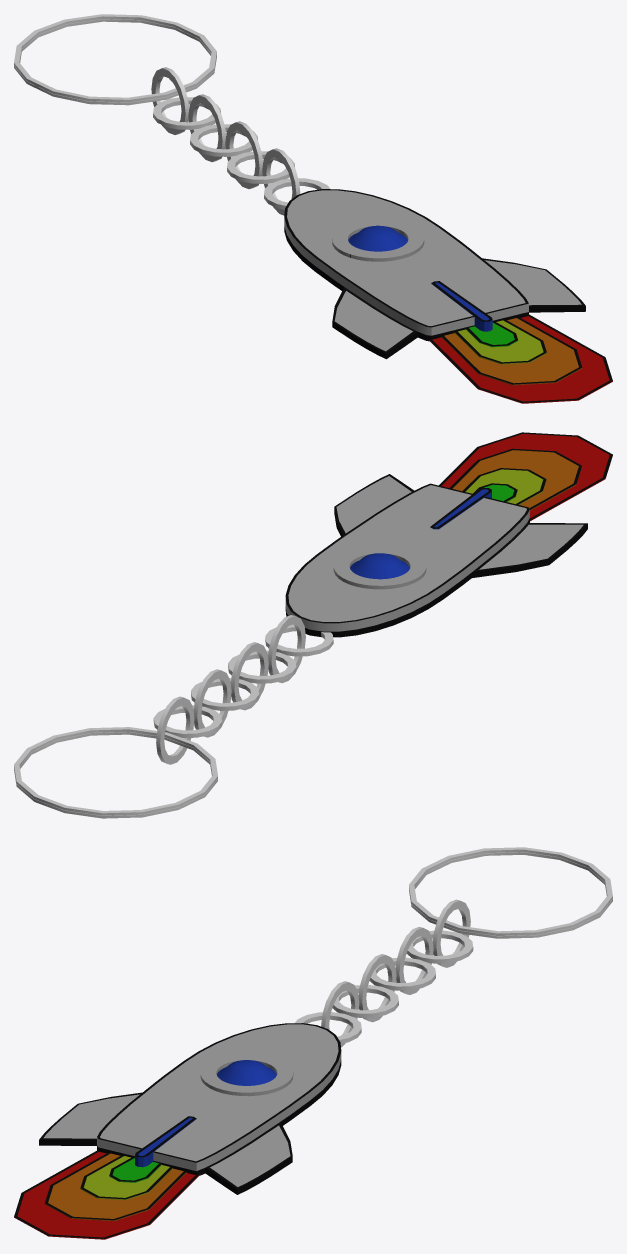
File: Keychain_Rocket.fbx
3 renders of one model, top to bottom at view 1: azimuth 30°, elevation 25°; view 2: azimuth 150°, elevation 25°; view 3: azimuth 330°, elevation 25°, orthographic.
Visible parts, largest first — view 1: Circle_0; view 2: Circle_0; view 3: Circle_0.
Boxes of the visible parts, <box> form: Circle_0: <box>14,14,612,403</box>; Circle_0: <box>14,432,612,818</box>; Circle_0: <box>14,847,612,1239</box>.
Size of the model in its own units: 79.99 by 22.2 by 332.
